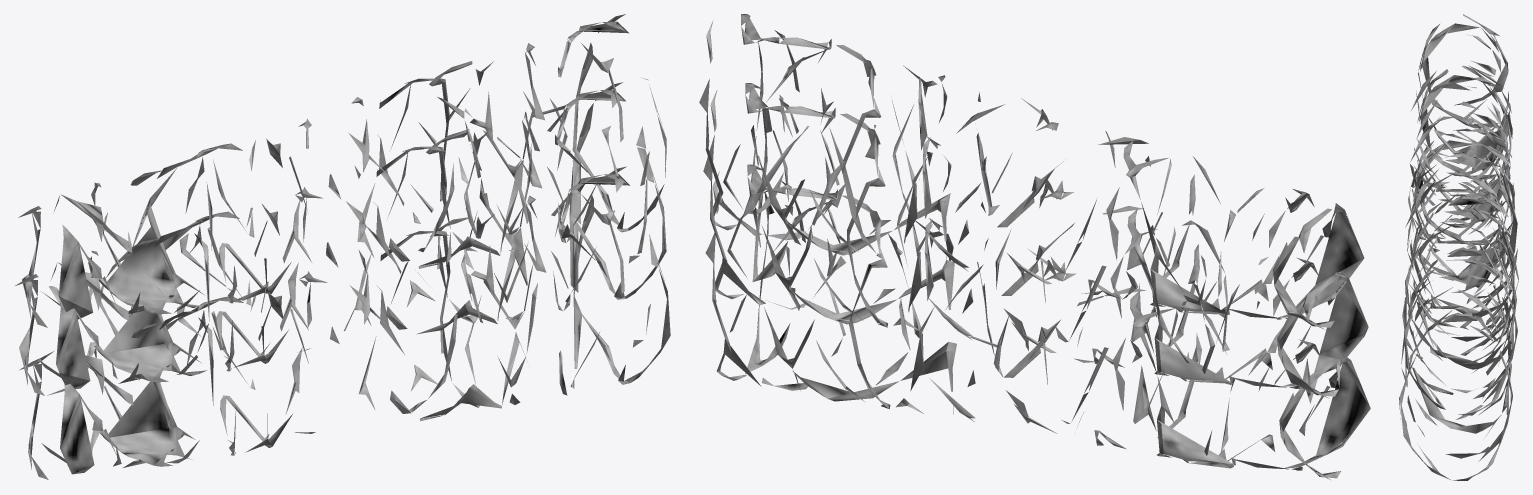
The model's file is kawat_berduri_1_lod2.glb.
The picture shows the model from 3 angles, left to right: view 1: azimuth 30°, elevation 25°; view 2: azimuth 150°, elevation 25°; view 3: azimuth 270°, elevation 25°; orthographic projection. The views are drawn at different scales.
Parts seen in each view (by area): view 1: tripo_node_8da9dd7f; view 2: tripo_node_8da9dd7f; view 3: tripo_node_8da9dd7f.
Boxes of the visible parts, x1,y1,x2,y2 form: tripo_node_8da9dd7f: (15,14,670,479); tripo_node_8da9dd7f: (699,14,1370,480); tripo_node_8da9dd7f: (1399,14,1518,480).
Bounding box in the file's own units: 81.85 × 46.08 × 17.78.
1 material, 1 textured.
